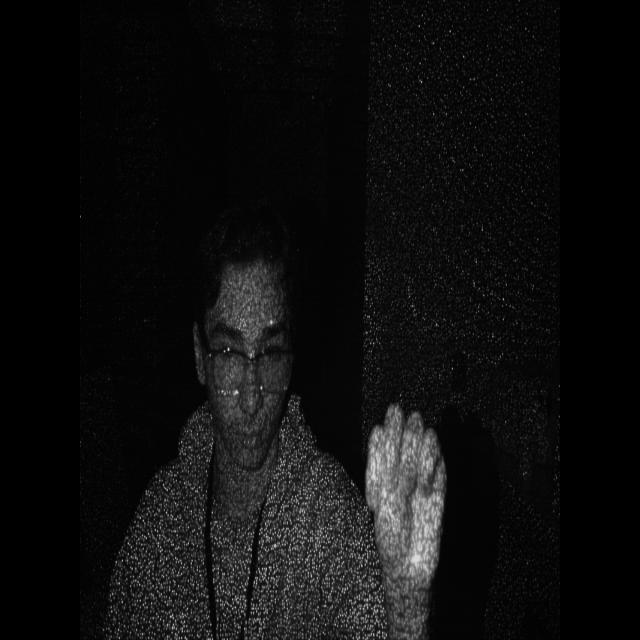M: (352, 378, 454, 596)
